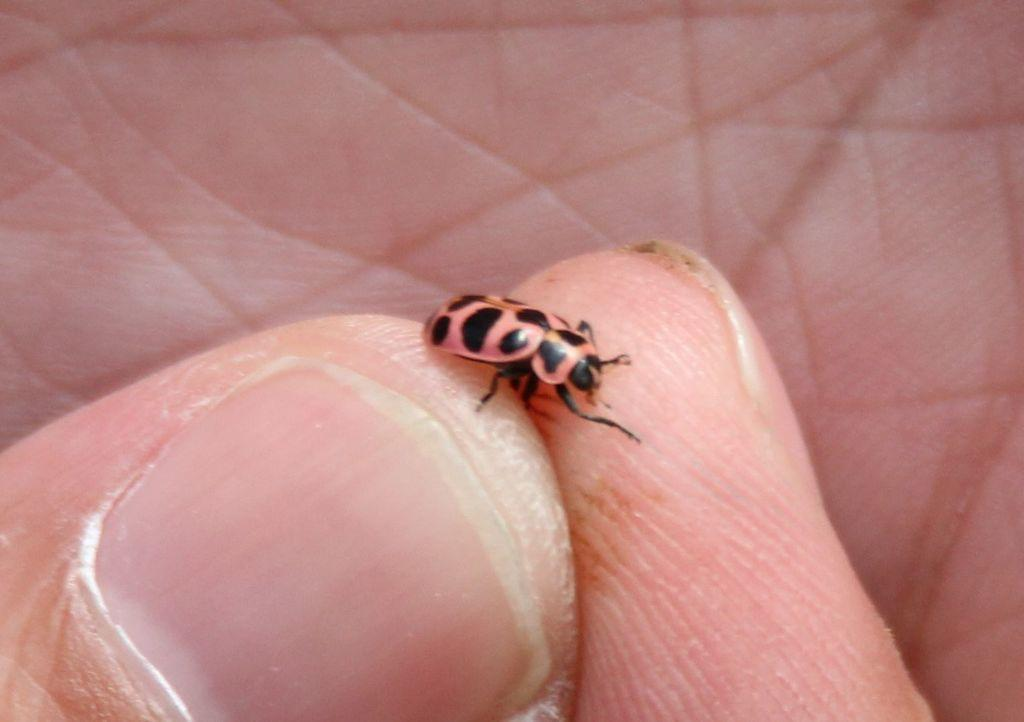ladybug: (421, 291, 647, 449)
